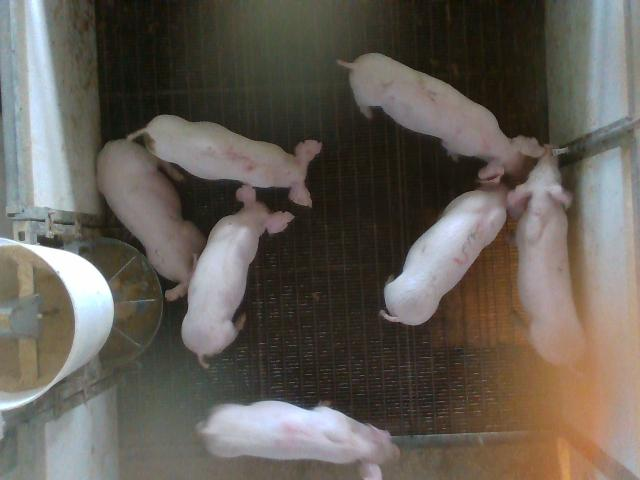pig-3: (380, 178, 527, 324)
pig-4: (196, 401, 399, 479)
pig-5: (126, 115, 321, 206)
